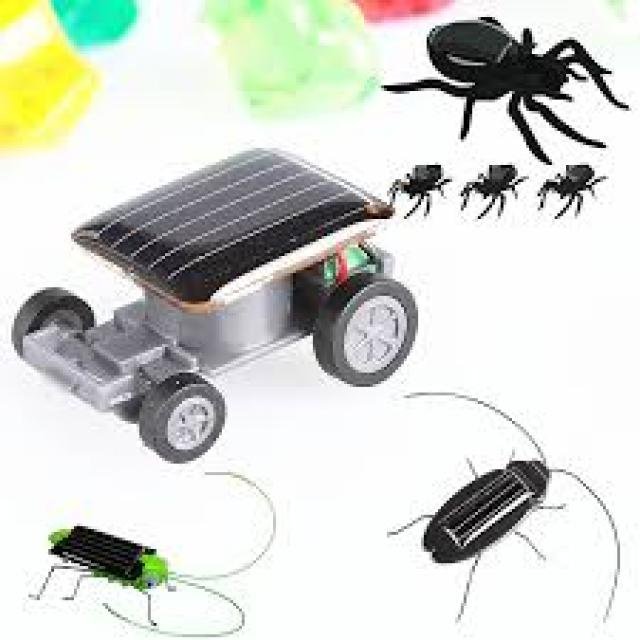Cockroach: (368, 377, 631, 629)
